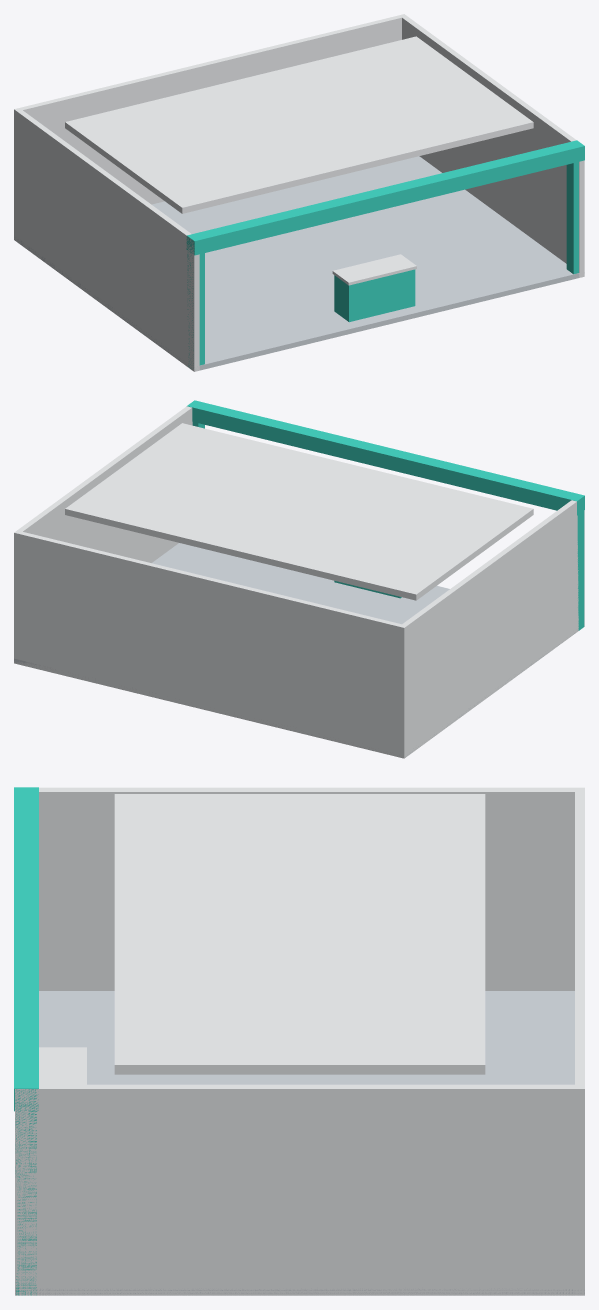
3 renders of one model, top to bottom at view 1: azimuth 30°, elevation 25°; view 2: azimuth 150°, elevation 25°; view 3: azimuth 270°, elevation 25°, orthographic. The views are drawn at different scales.
Parts seen in each view (by area): view 1: Exhibition Booth Concept; view 2: Exhibition Booth Concept; view 3: Exhibition Booth Concept.
Boxes of the visible parts, x1,y1,x2,y2 form: Exhibition Booth Concept: [14, 14, 584, 371]; Exhibition Booth Concept: [14, 400, 584, 758]; Exhibition Booth Concept: [14, 787, 584, 1295].
Size of the model in its own units: 10 by 3.34 by 8.01.
